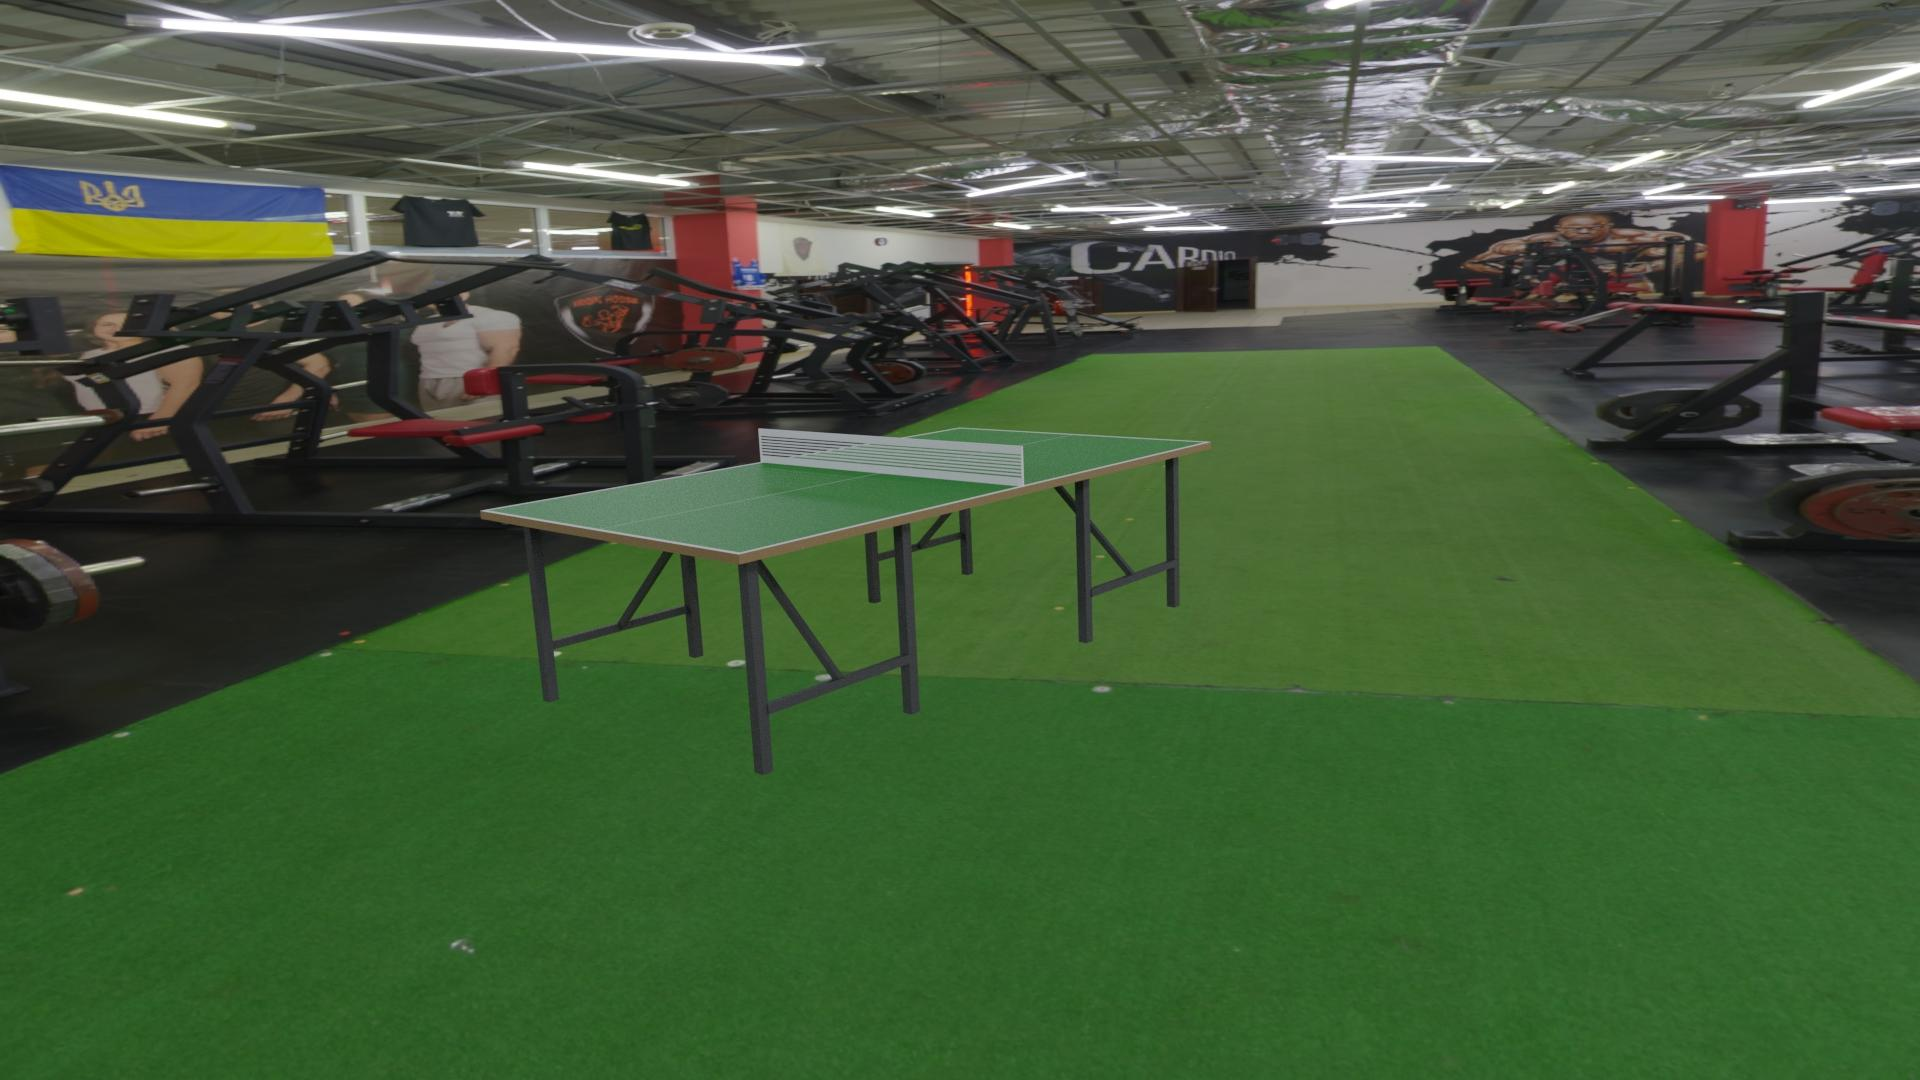table: (488, 428, 1205, 553)
